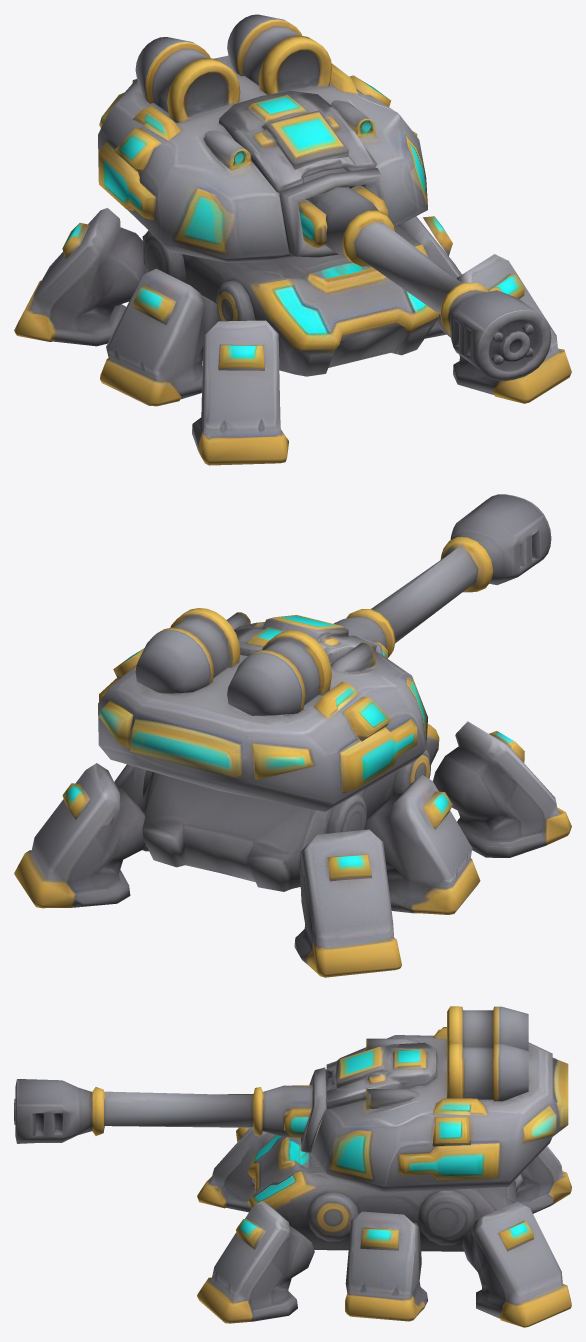
Rendered from siege_tank_3.glb.
The picture shows the model from 3 angles, top to bottom: view 1: azimuth 30°, elevation 25°; view 2: azimuth 150°, elevation 25°; view 3: azimuth 270°, elevation 25°; orthographic projection. The views are drawn at different scales.
Visible parts, largest first — view 1: tripo_node_aede557c-56e1-447b-b8f9-99913edc3f22; view 2: tripo_node_aede557c-56e1-447b-b8f9-99913edc3f22; view 3: tripo_node_aede557c-56e1-447b-b8f9-99913edc3f22.
Part boxes in pixels (x1,y1,x2,y2): tripo_node_aede557c-56e1-447b-b8f9-99913edc3f22: (14, 14, 571, 465); tripo_node_aede557c-56e1-447b-b8f9-99913edc3f22: (14, 494, 571, 977); tripo_node_aede557c-56e1-447b-b8f9-99913edc3f22: (14, 1006, 571, 1327).
Bounding box in the file's own units: 2.25 × 1.51 × 3.4.
Materials: 1 (1 with a texture image).
